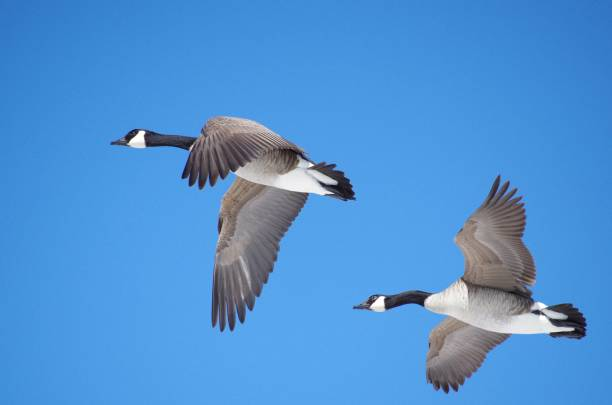goose: (107, 113, 357, 333), (349, 173, 586, 396)
